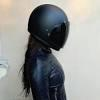helmet: (23, 0, 90, 54)
